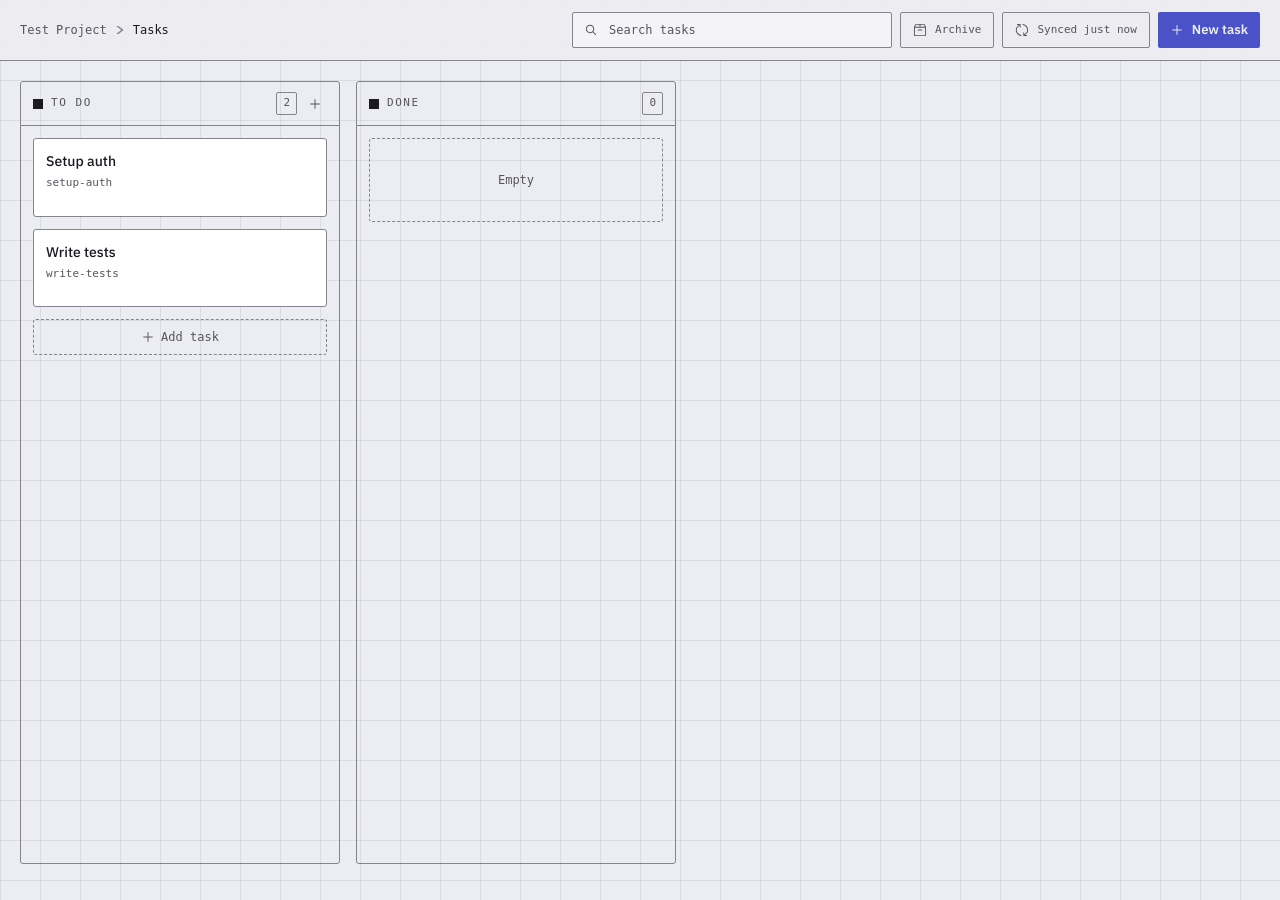
Test: Markdown link handling › sends repo file links to the host destination in a new tab
The image size is (1280, 900).
Click the heading "Setup auth": (81, 161) [46, 152, 116, 170]
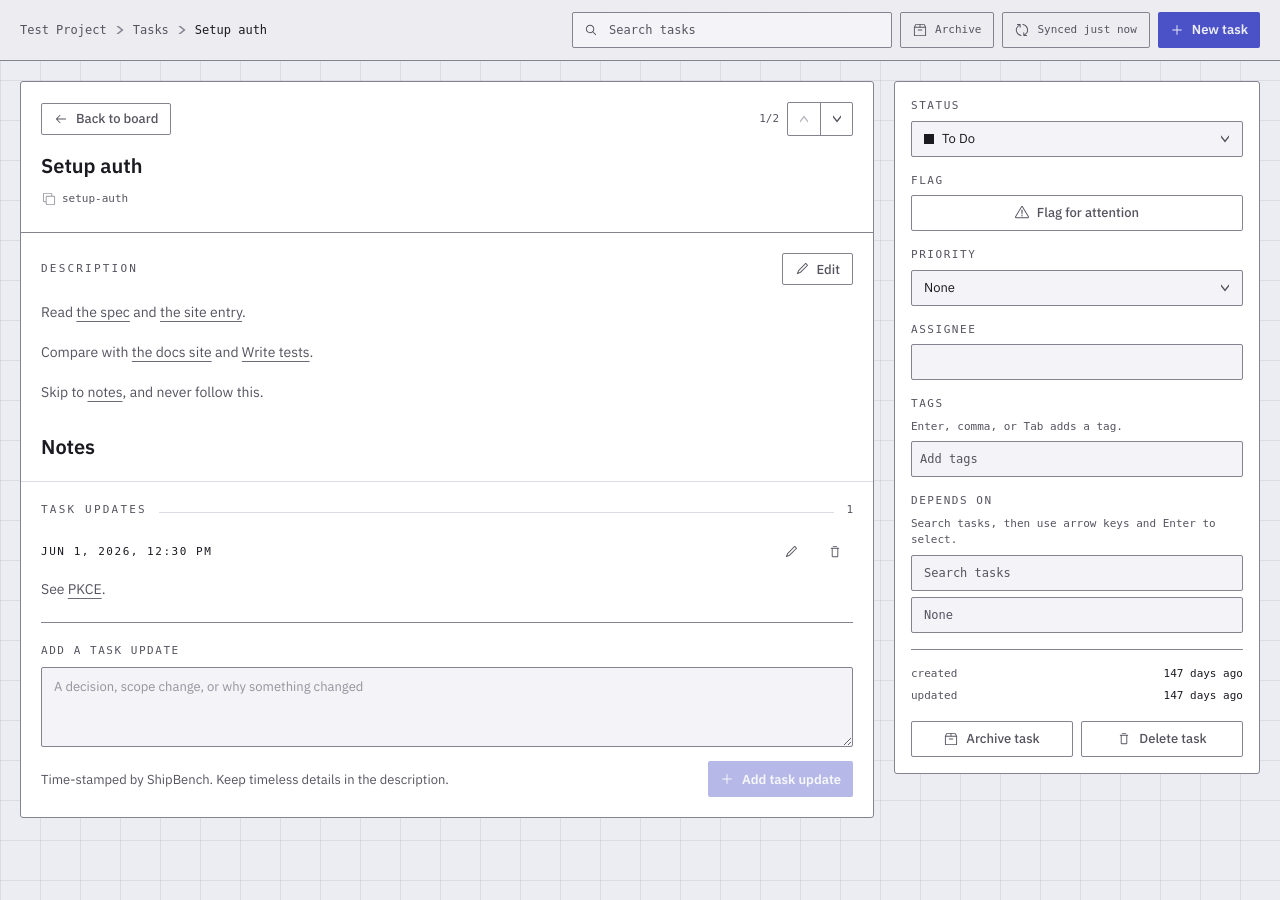
Expected: the heading "Notes" is shown, [41, 433, 95, 460]
